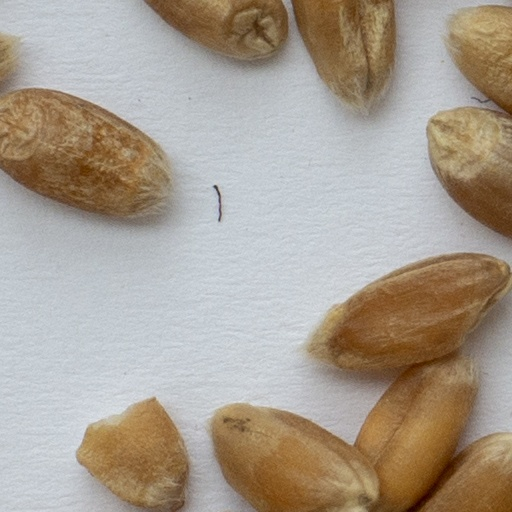Wheat-grain-damaged-poly: (75, 393, 191, 509)
Wheat-grain-poly: (309, 254, 511, 376), (0, 88, 176, 221), (359, 349, 474, 509), (213, 403, 378, 511), (293, 0, 394, 115), (427, 108, 511, 235), (148, 0, 285, 60), (425, 433, 511, 511), (0, 27, 35, 88)
